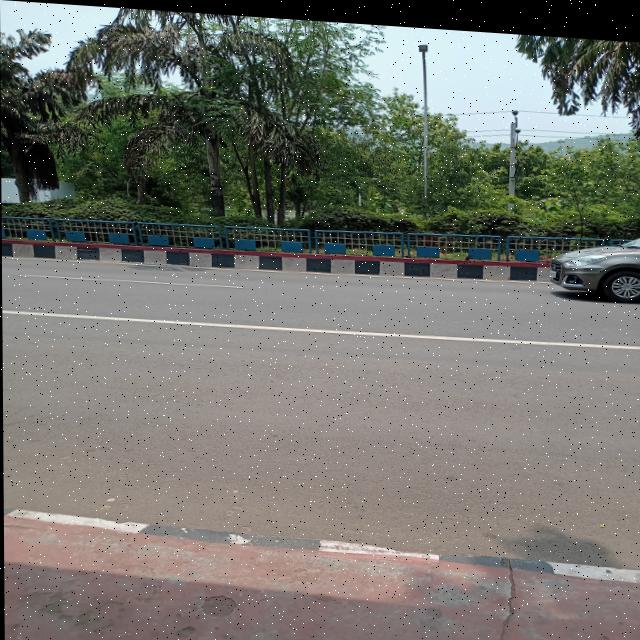car: (548, 220, 640, 304)
